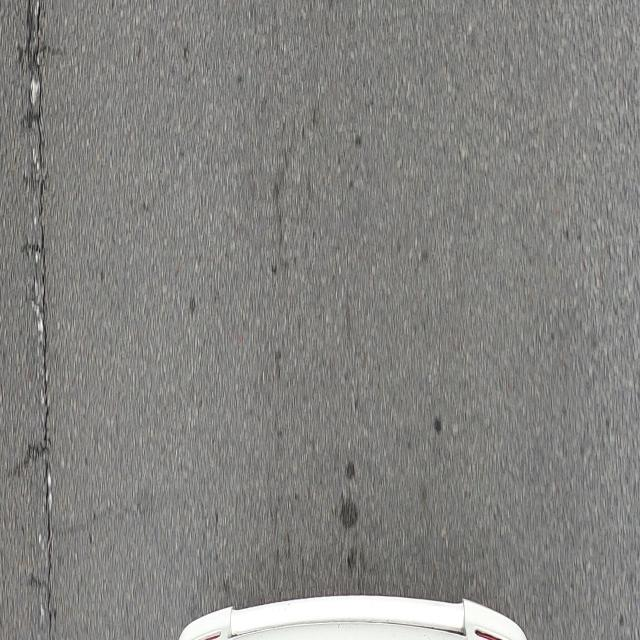Retak-Memanjang: (33, 4, 52, 635)
